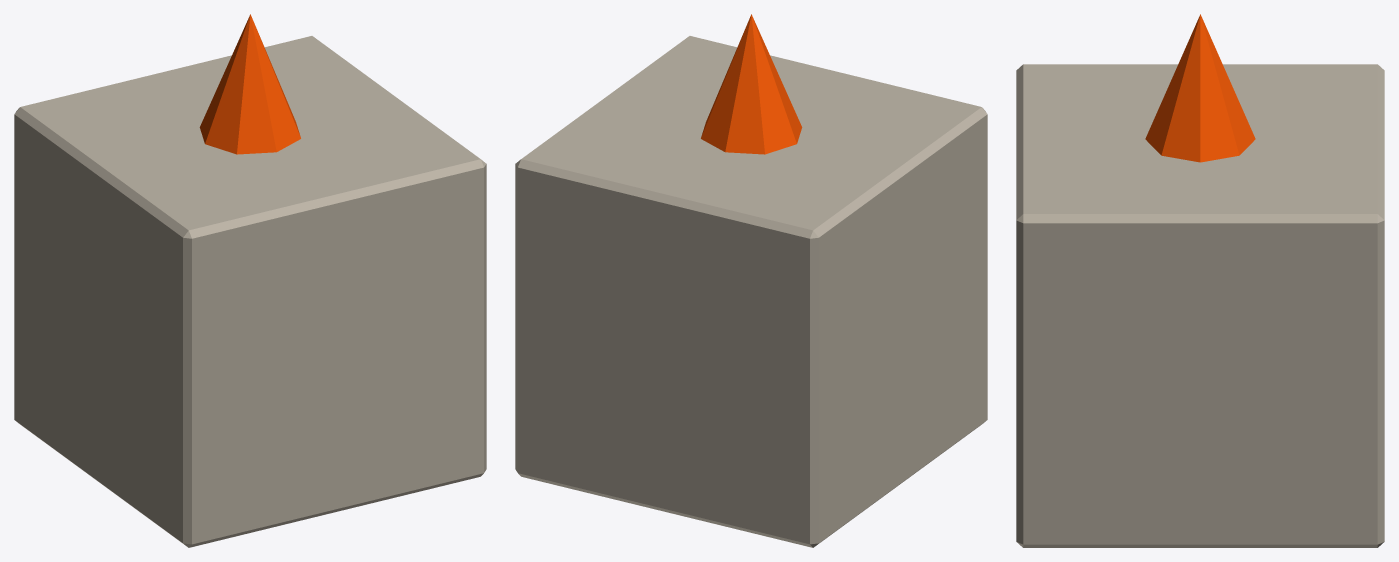
The model's file is pipeline_cube.fbx.
The picture shows the model from 3 angles, left to right: view 1: azimuth 30°, elevation 25°; view 2: azimuth 150°, elevation 25°; view 3: azimuth 270°, elevation 25°; orthographic projection. The views are drawn at different scales.
Visible parts, largest first — view 1: Cube; view 2: Cube; view 3: Cube.
Boxes of the visible parts, <box> form: Cube: <box>14,14,486,547</box>; Cube: <box>515,14,987,547</box>; Cube: <box>1016,14,1384,547</box>.
Size of the model in its own units: 0.8 by 0.8 by 1.1.
